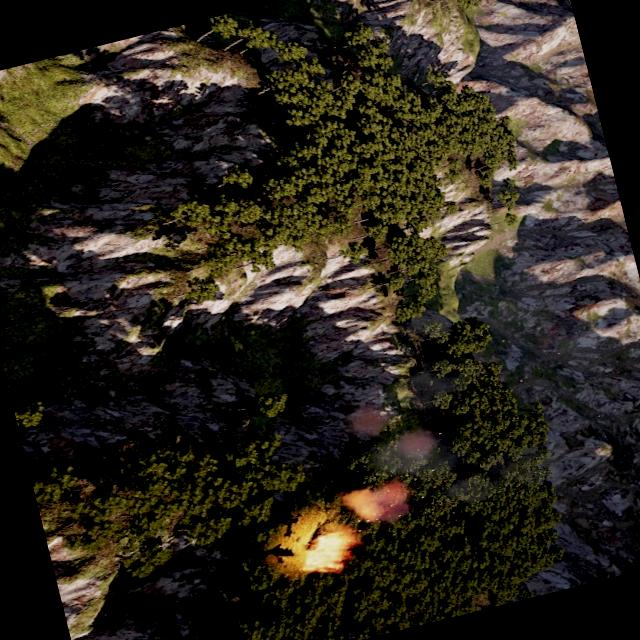fire: (318, 391, 453, 530), (290, 524, 362, 579)
